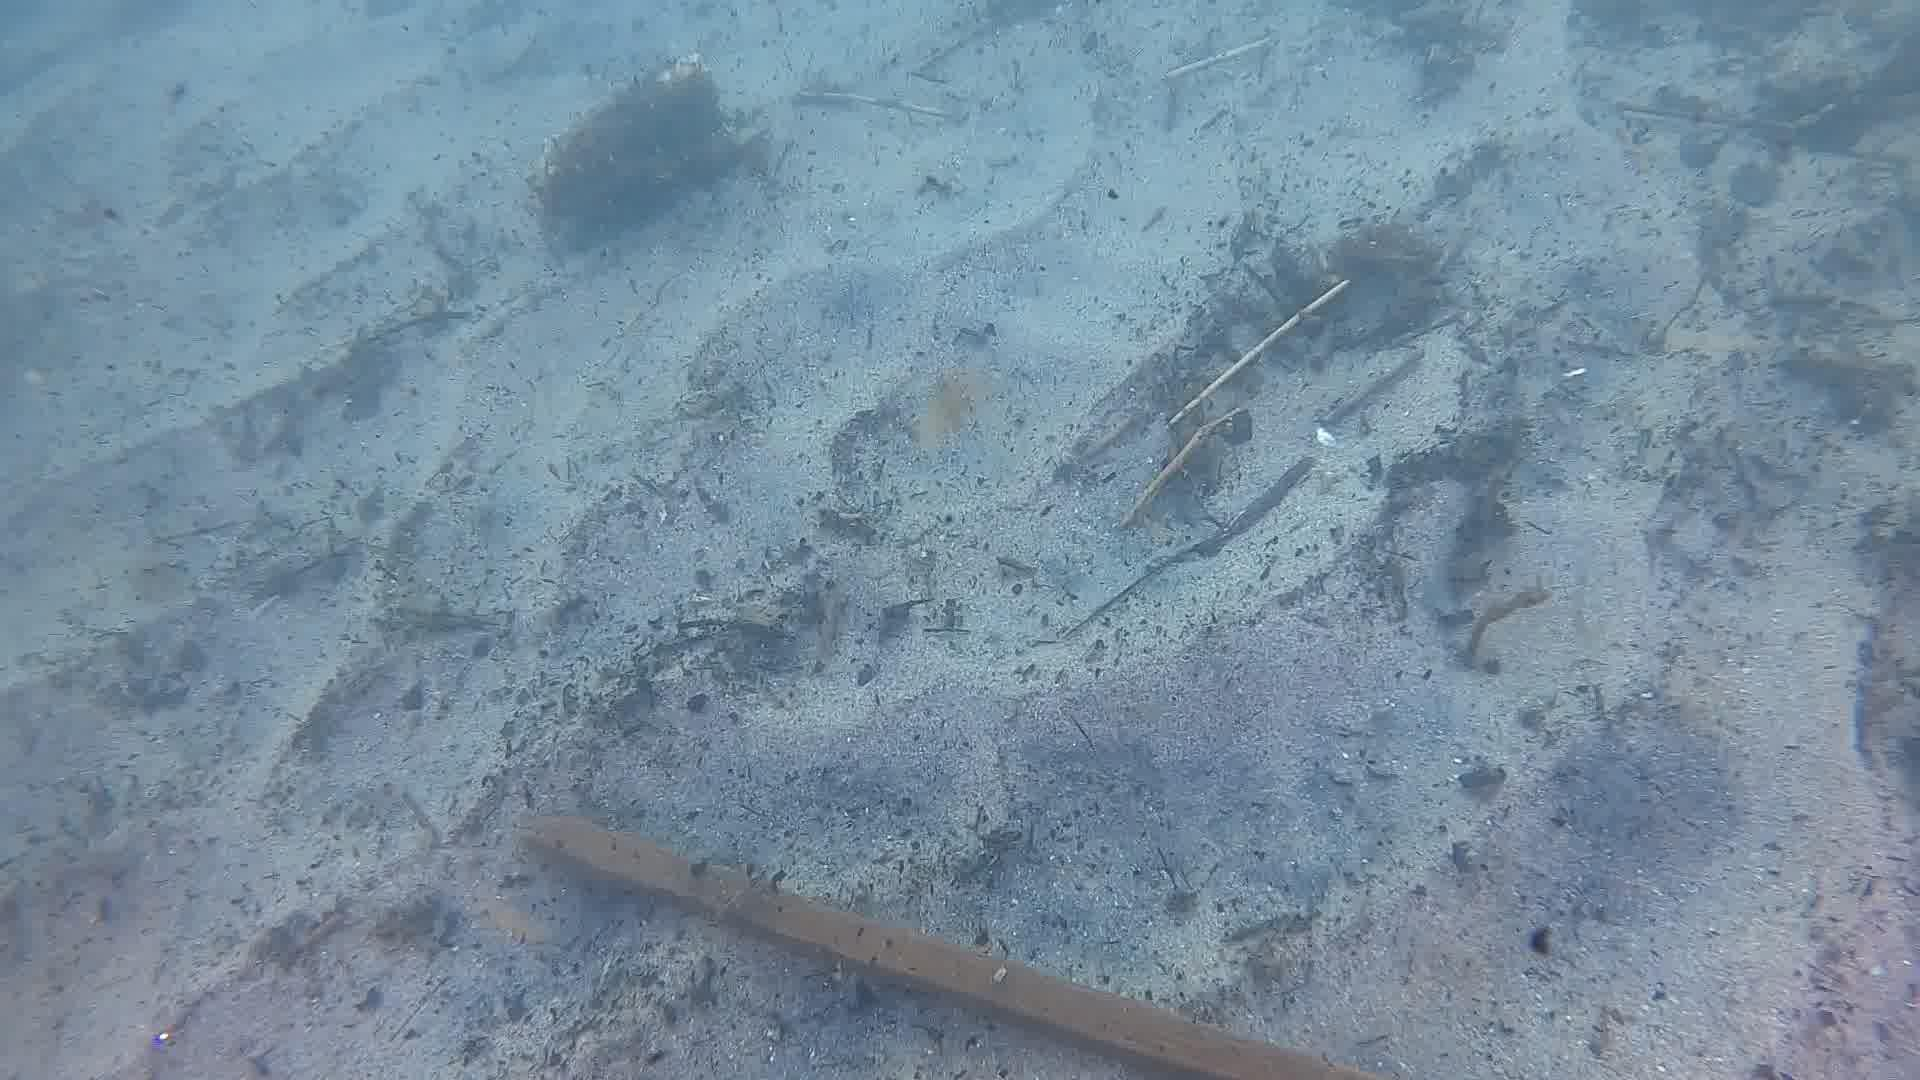wood: (513, 807, 1361, 1080)
